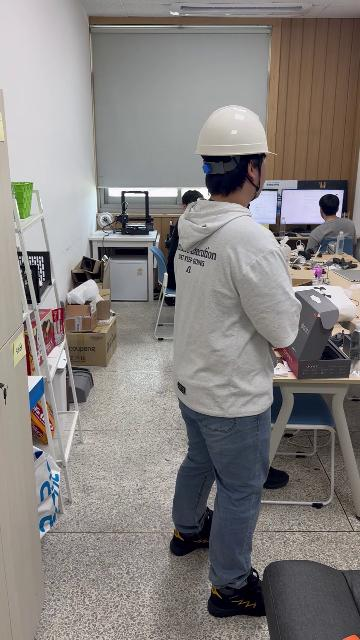helmet_worn: (192, 106, 279, 158)
shoe_not_worn: (263, 465, 290, 489)
shoe_worn: (208, 569, 266, 619), (169, 509, 213, 556)
vest_not_worn: (169, 202, 291, 421)
